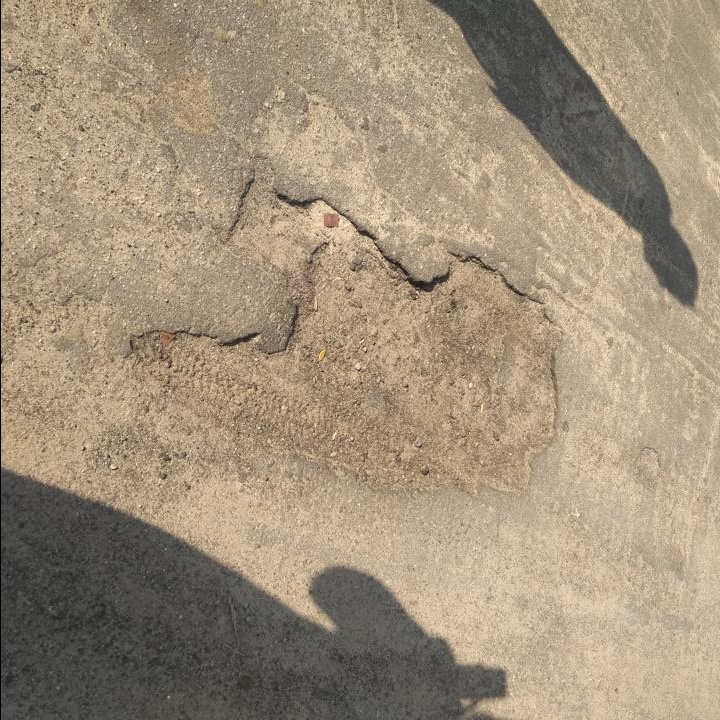pothole: (125, 154, 570, 504)
